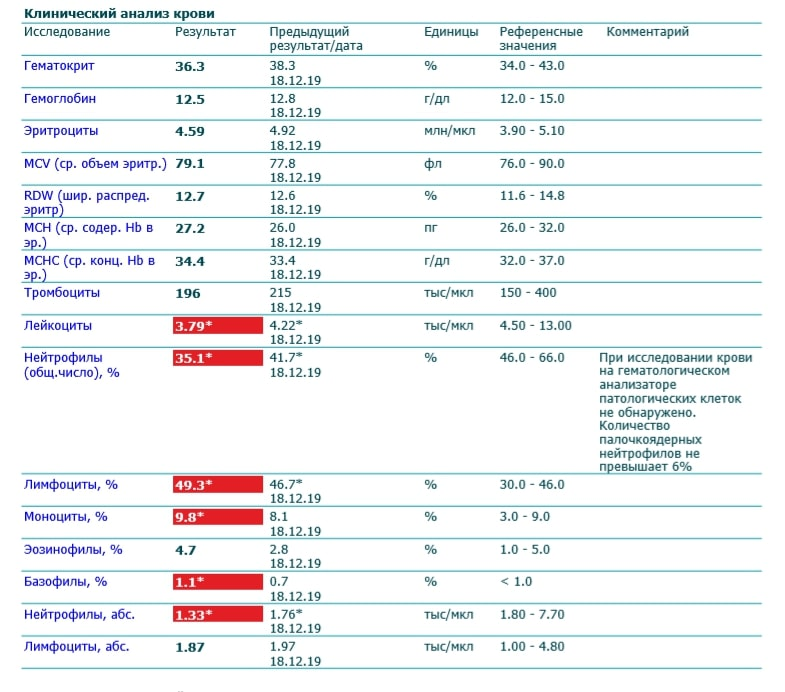column: (598, 22, 753, 668), (23, 22, 168, 668), (268, 22, 364, 668), (498, 22, 583, 668), (174, 22, 237, 668), (423, 22, 480, 668)
